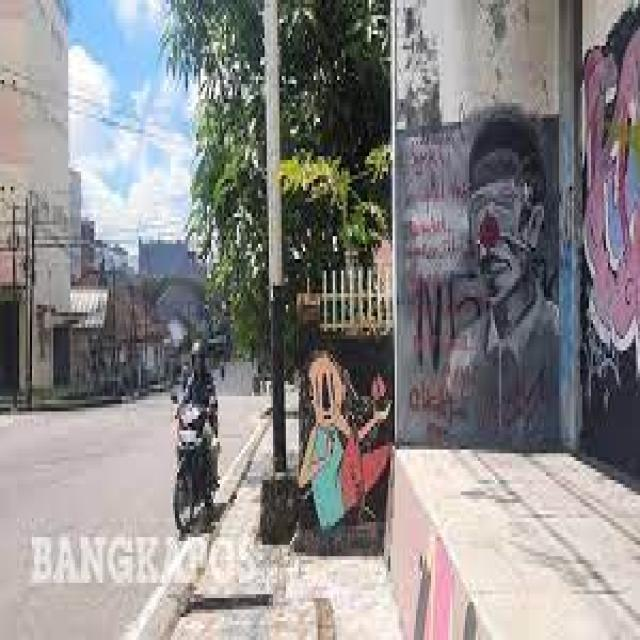-: (402, 114, 559, 440), (581, 37, 640, 406), (296, 343, 388, 532)
